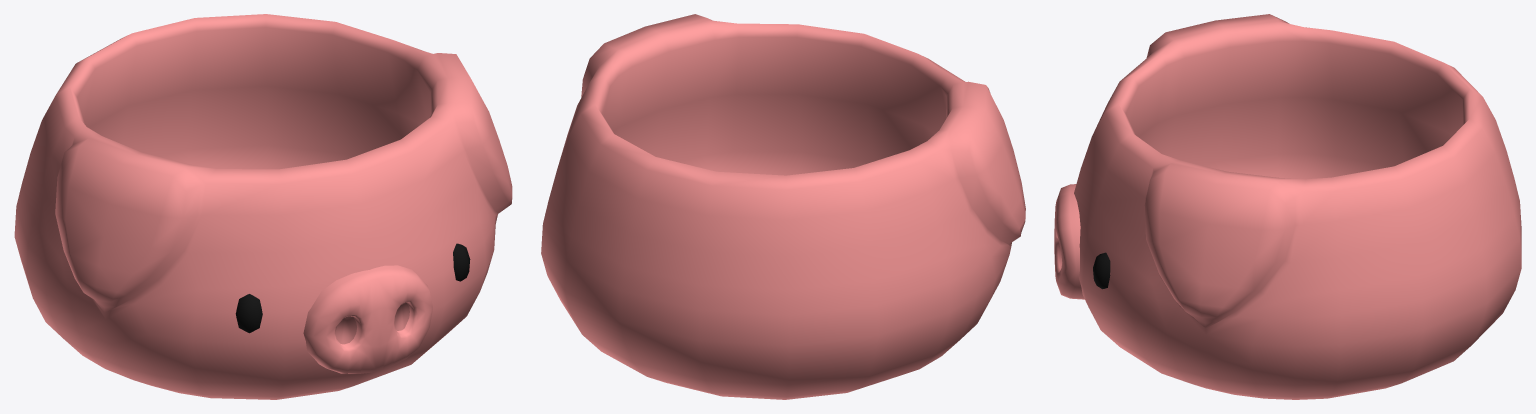
Rendered from bowl_small.fbx.
3 views of the same model, side by side, from view 1: azimuth 30°, elevation 25°; view 2: azimuth 150°, elevation 25°; view 3: azimuth 270°, elevation 25° (orthographic). The views are drawn at different scales.
Parts seen in each view (by area): view 1: bowl_small; view 2: bowl_small; view 3: bowl_small.
Part boxes in pixels (x1=…): bowl_small: x1=14, y1=14, x2=512, y2=399; bowl_small: x1=541, y1=14, x2=1025, y2=399; bowl_small: x1=1054, y1=14, x2=1521, y2=399.
Bounding box in the file's own units: 0.1602 × 0.0926 × 0.1581.
